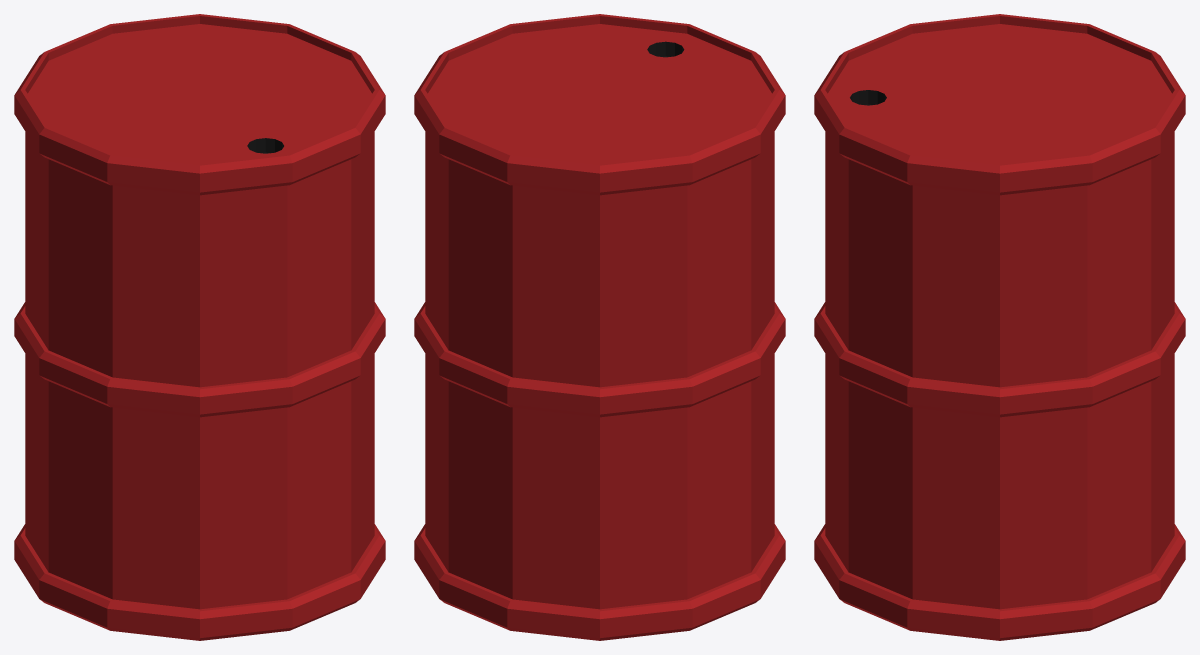
Rendered from TNT.fbx.
3 views of the same model, side by side, from view 1: azimuth 30°, elevation 25°; view 2: azimuth 150°, elevation 25°; view 3: azimuth 270°, elevation 25° (orthographic).
Parts seen in each view (by area): view 1: Бочка; view 2: Бочка; view 3: Бочка.
Boxes of the visible parts, box(x1,y1,x2,y2) form: Бочка: box(14, 14, 385, 640); Бочка: box(414, 14, 785, 640); Бочка: box(814, 14, 1185, 640).
Size of the model in its own units: 212 by 300 by 212.
